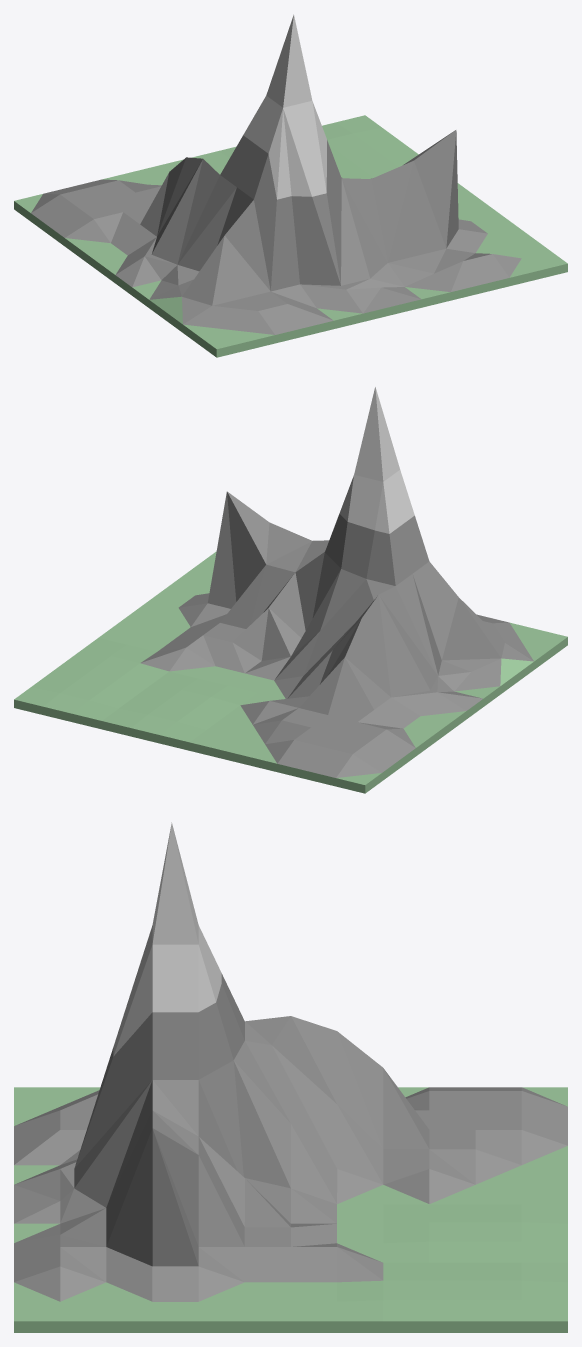
File: Mountain II.fbx
3 views of the same model, one above another, from view 1: azimuth 30°, elevation 25°; view 2: azimuth 150°, elevation 25°; view 3: azimuth 270°, elevation 25° (orthographic). The views are drawn at different scales.
Visible parts, largest first — view 1: Mountain II; view 2: Mountain II; view 3: Mountain II.
Boxes of the visible parts, left/top/right/bottom form: Mountain II: left=14, top=14, right=567, bottom=357; Mountain II: left=14, top=387, right=567, bottom=793; Mountain II: left=14, top=822, right=567, bottom=1332.
Bounding box in the file's own units: 1603 × 1170 × 1603.
